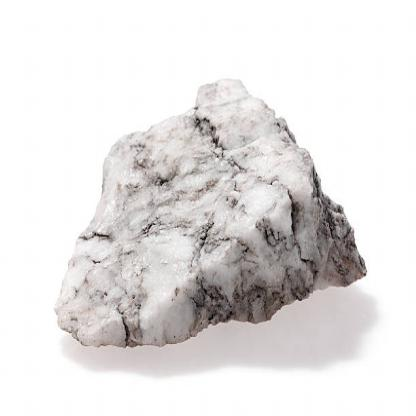Metamorphic_Marble: (41, 60, 374, 354)
